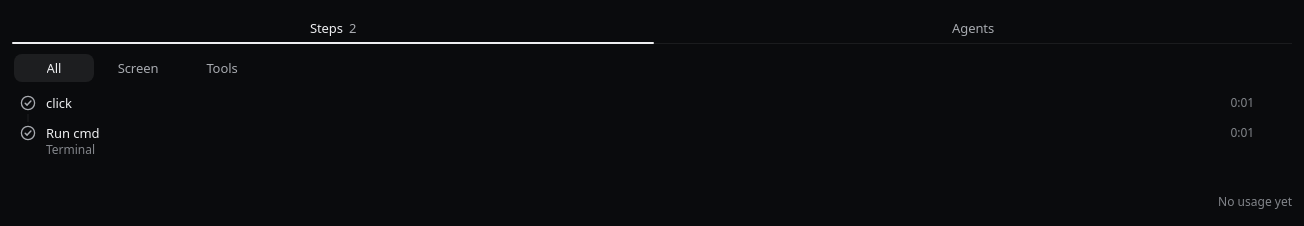
Scenario: ActivityRail › filters to screen steps or tools with a segmented choice
The width and height of the screenshot is (1304, 226).
Click the radio button labelled "Screen" at (138, 68), box [96,52,180,84]
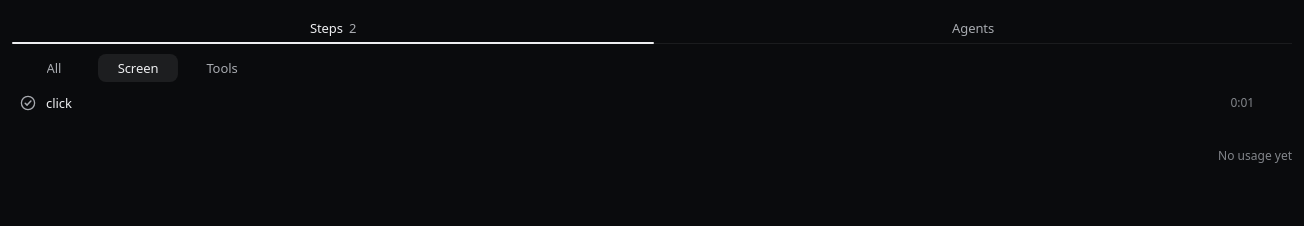
Expected: the number of elements with test id "step-row" is 1, [12,88,1282,118]
Now the element with test id "tool-row" is gone
Press ArrowRight in the radio button labelled "Screen", box [96,52,180,84]
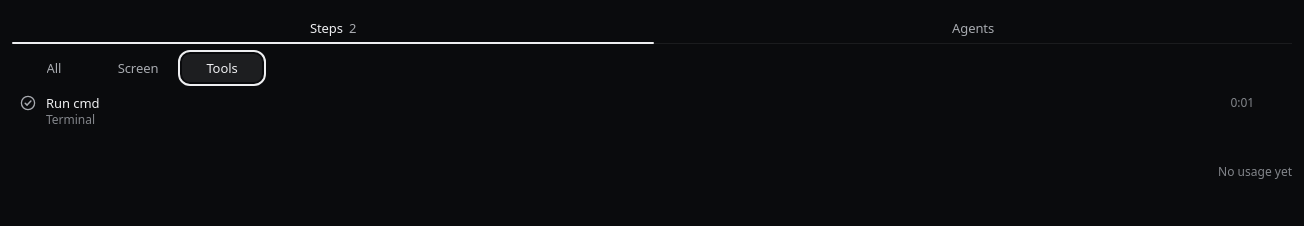
Now the element with test id "step-row" is gone
Now the number of elements with test id "tool-row" is 1, box [12,88,1282,134]
